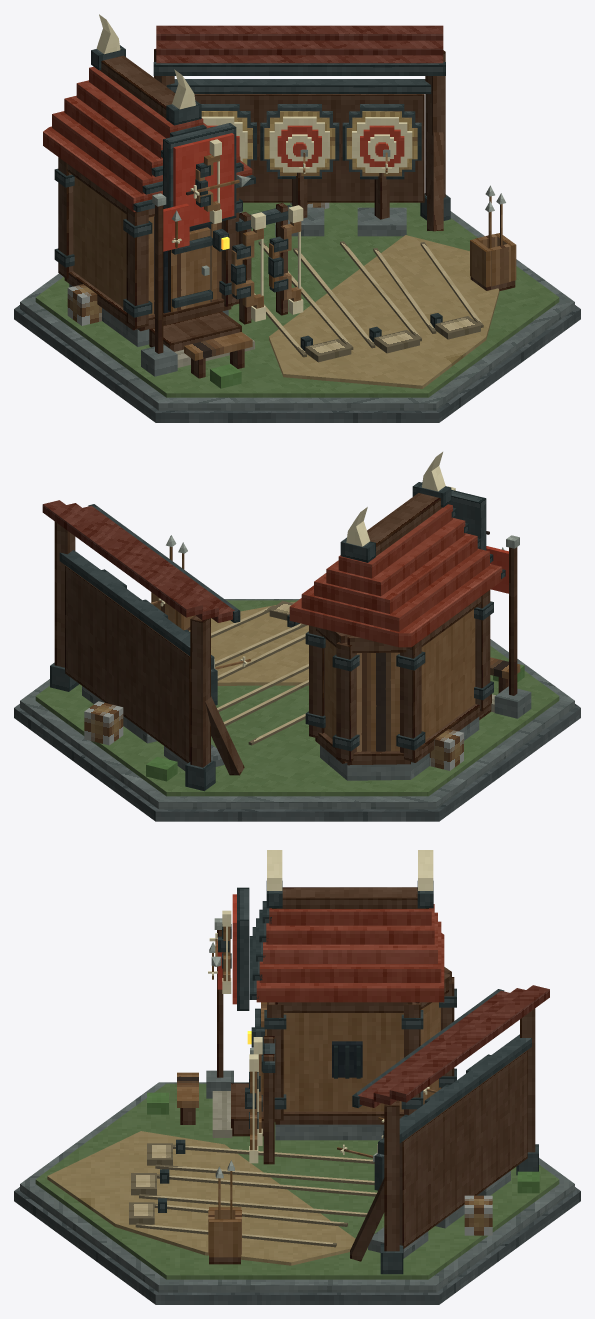
The model's file is orc_ranger_camp_hex_v1.glb.
3 renders of one model, top to bottom at view 1: azimuth 30°, elevation 25°; view 2: azimuth 150°, elevation 25°; view 3: azimuth 270°, elevation 25°, orthographic.
Parts seen in each view (by area): view 1: Orc_Ranger_Camp_Hex_V1_Foundation, Orc_Ranger_Camp_Hex_V1_Targets, Orc_Ranger_Camp_Hex_V1_Roofs, Orc_Ranger_Camp_Hex_V1_Courtyard, Orc_Ranger_Camp_Hex_V1_Lodge, Orc_Ranger_Camp_Hex_V1_Details, Orc_Ranger_Camp_Hex_V1_Equipment, Orc_Ranger_Camp_Hex_V1_Faction; view 2: Orc_Ranger_Camp_Hex_V1_Foundation, Orc_Ranger_Camp_Hex_V1_Roofs, Orc_Ranger_Camp_Hex_V1_Lodge, Orc_Ranger_Camp_Hex_V1_Targets, Orc_Ranger_Camp_Hex_V1_Courtyard, Orc_Ranger_Camp_Hex_V1_Details, Orc_Ranger_Camp_Hex_V1_Equipment, Orc_Ranger_Camp_Hex_V1_Faction; view 3: Orc_Ranger_Camp_Hex_V1_Foundation, Orc_Ranger_Camp_Hex_V1_Roofs, Orc_Ranger_Camp_Hex_V1_Courtyard, Orc_Ranger_Camp_Hex_V1_Targets, Orc_Ranger_Camp_Hex_V1_Lodge, Orc_Ranger_Camp_Hex_V1_Details, Orc_Ranger_Camp_Hex_V1_Equipment, Orc_Ranger_Camp_Hex_V1_Faction.
Part boxes in pixels (x1=…): Orc_Ranger_Camp_Hex_V1_Foundation: x1=14, y1=202, x2=580, y2=422; Orc_Ranger_Camp_Hex_V1_Targets: x1=154, y1=49, x2=450, y2=236; Orc_Ranger_Camp_Hex_V1_Roofs: x1=43, y1=14, x2=445, y2=212; Orc_Ranger_Camp_Hex_V1_Courtyard: x1=149, y1=235, x2=499, y2=388; Orc_Ranger_Camp_Hex_V1_Lodge: x1=54, y1=123, x2=242, y2=346; Orc_Ranger_Camp_Hex_V1_Details: x1=67, y1=139, x2=442, y2=388; Orc_Ranger_Camp_Hex_V1_Equipment: x1=231, y1=185, x2=516, y2=324; Orc_Ranger_Camp_Hex_V1_Faction: x1=163, y1=133, x2=234, y2=251; Orc_Ranger_Camp_Hex_V1_Foundation: x1=14, y1=599, x2=580, y2=821; Orc_Ranger_Camp_Hex_V1_Roofs: x1=42, y1=452, x2=505, y2=647; Orc_Ranger_Camp_Hex_V1_Lodge: x1=305, y1=482, x2=493, y2=780; Orc_Ranger_Camp_Hex_V1_Targets: x1=50, y1=521, x2=250, y2=791; Orc_Ranger_Camp_Hex_V1_Courtyard: x1=189, y1=600, x2=495, y2=745; Orc_Ranger_Camp_Hex_V1_Details: x1=84, y1=486, x2=531, y2=781; Orc_Ranger_Camp_Hex_V1_Equipment: x1=151, y1=535, x2=194, y2=630; Orc_Ranger_Camp_Hex_V1_Faction: x1=486, y1=546, x2=508, y2=593; Orc_Ranger_Camp_Hex_V1_Foundation: x1=14, y1=1082, x2=580, y2=1304; Orc_Ranger_Camp_Hex_V1_Roofs: x1=249, y1=850, x2=549, y2=1107; Orc_Ranger_Camp_Hex_V1_Courtyard: x1=47, y1=1083, x2=376, y2=1265; Orc_Ranger_Camp_Hex_V1_Targets: x1=337, y1=1008, x2=538, y2=1274; Orc_Ranger_Camp_Hex_V1_Lodge: x1=237, y1=887, x2=456, y2=1140; Orc_Ranger_Camp_Hex_V1_Details: x1=147, y1=910, x2=539, y2=1235; Orc_Ranger_Camp_Hex_V1_Equipment: x1=208, y1=1036, x2=275, y2=1264; Orc_Ranger_Camp_Hex_V1_Faction: x1=217, y1=894, x2=236, y2=1004.
Bounding box in the file's own units: 1.59 × 1.03 × 1.84.
Materials: 1 (1 with a texture image).
